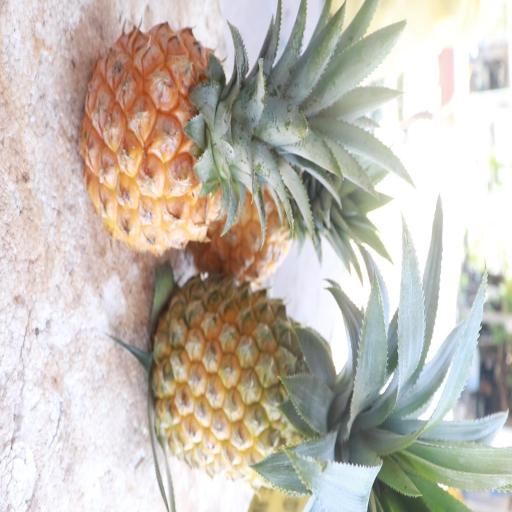Pineapple - v8 v1: (148, 269, 421, 489), (77, 15, 325, 250), (178, 120, 346, 291)
